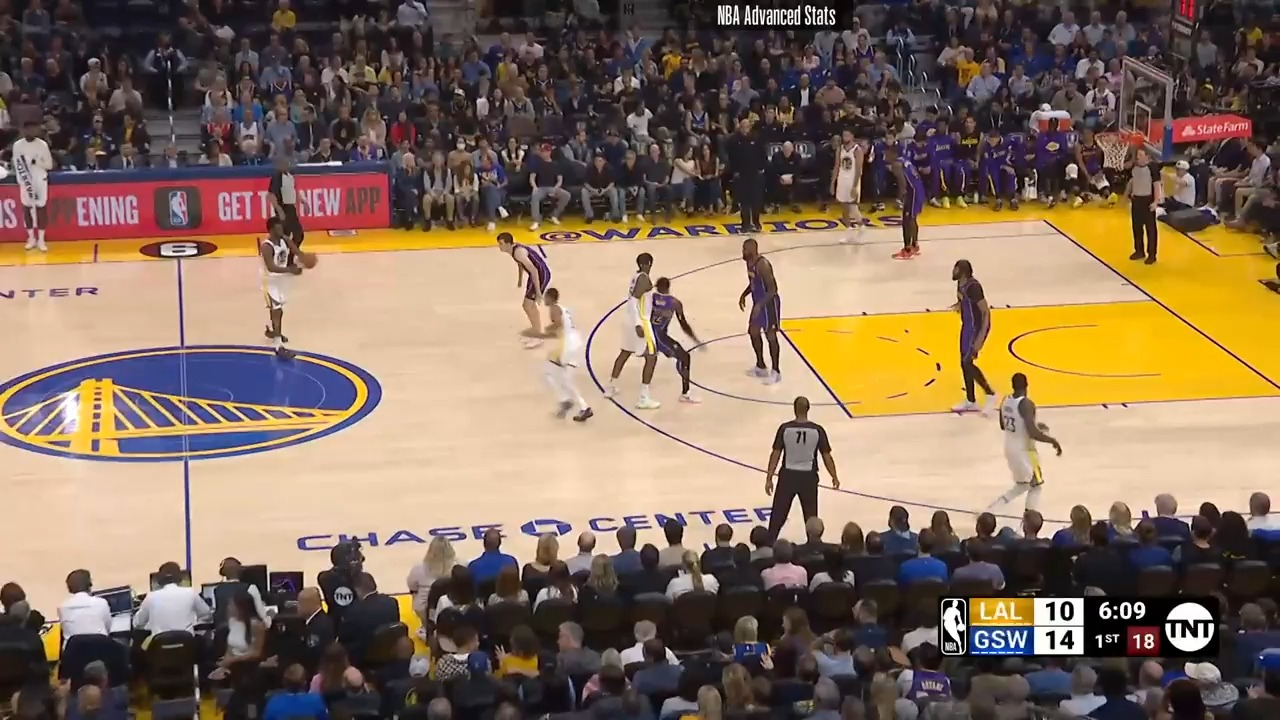net: (1092, 122, 1152, 172)
player: (516, 288, 606, 435), (991, 370, 1063, 516), (638, 277, 708, 415), (946, 256, 1002, 418), (256, 217, 320, 355), (615, 251, 668, 410), (730, 237, 784, 389), (496, 228, 561, 331), (834, 128, 874, 237), (886, 150, 922, 265)
referee: (765, 394, 848, 542), (1123, 137, 1168, 267), (266, 156, 306, 242)
